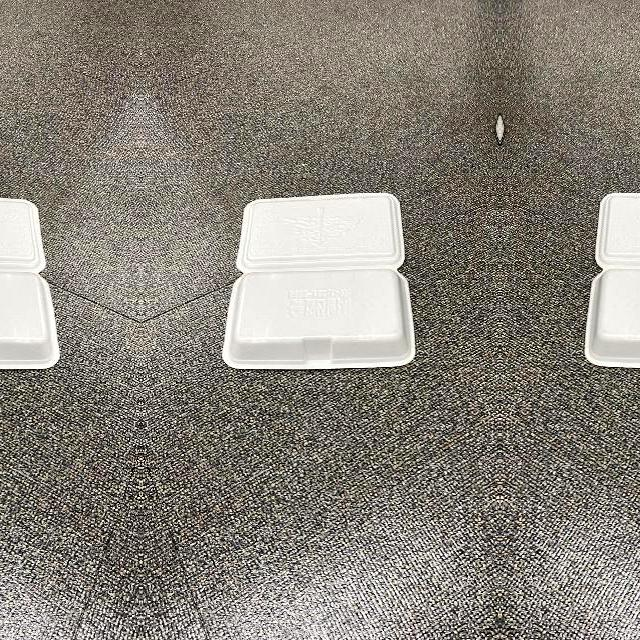Styrofoam: (222, 193, 416, 371), (221, 193, 414, 369), (0, 193, 58, 371), (582, 193, 640, 371), (0, 198, 59, 369), (584, 193, 640, 368)
